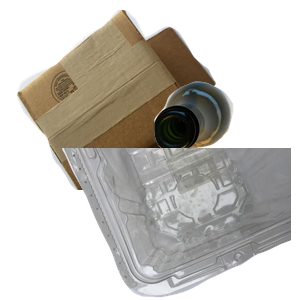cardboard: (14, 10, 222, 190)
glass: (151, 79, 300, 221)
plastic: (60, 148, 300, 300)
trash: (95, 157, 282, 300)
